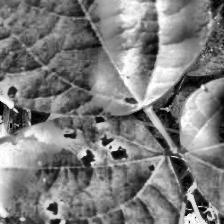ALS: (0, 0, 213, 118), (0, 112, 180, 224)
